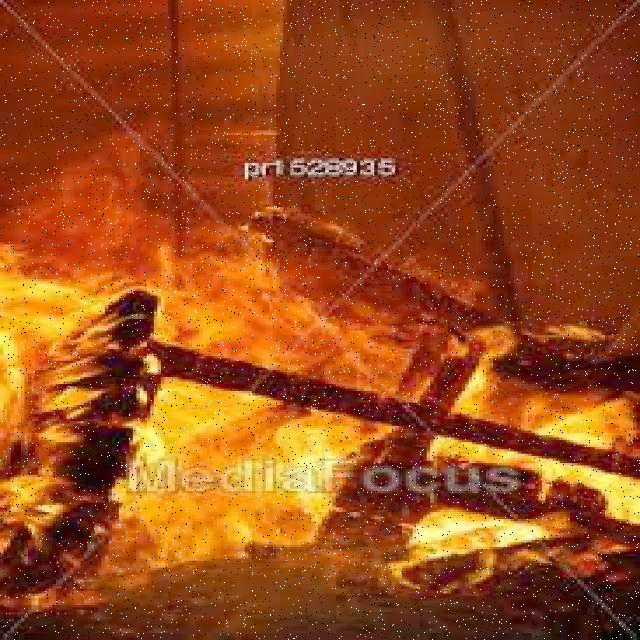fire: (0, 248, 640, 626)
